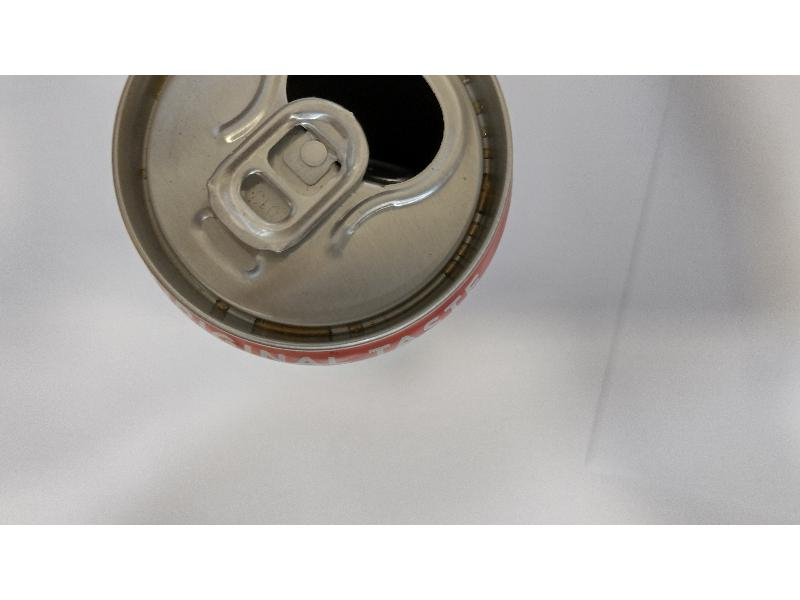can: (112, 78, 516, 371)
